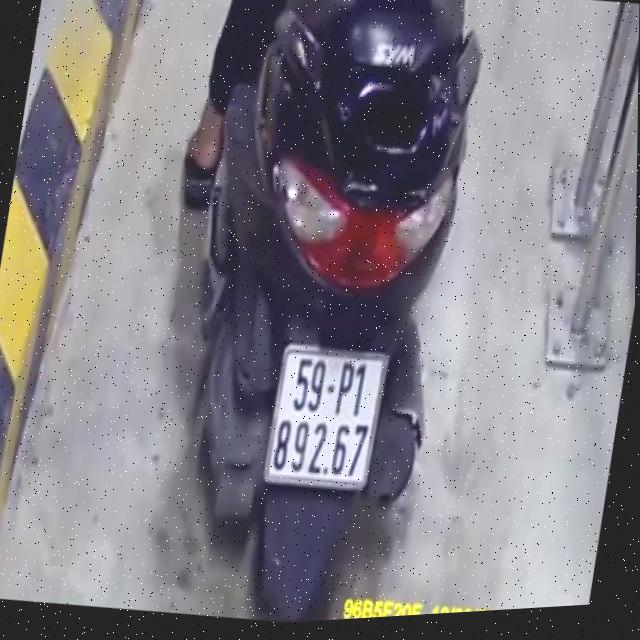motorcycle: (142, 0, 498, 631)
plate: (260, 332, 390, 501)
